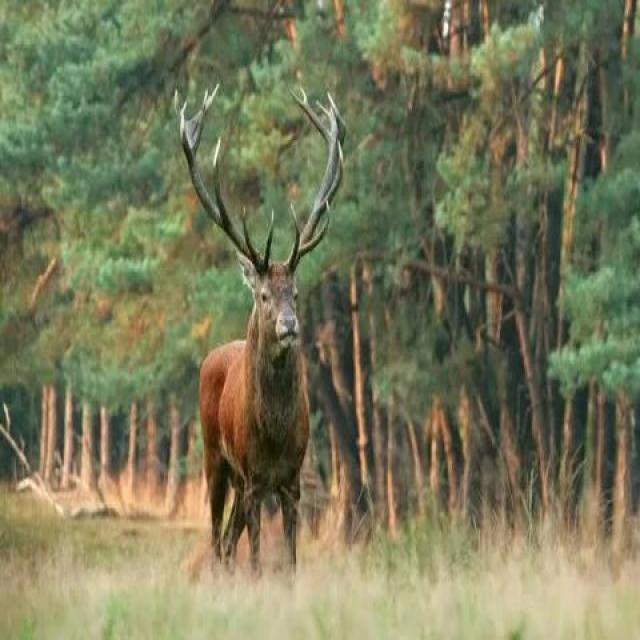deer: (154, 79, 356, 566)
